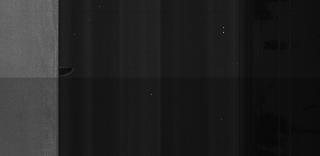welding line: (2, 73, 66, 81)
